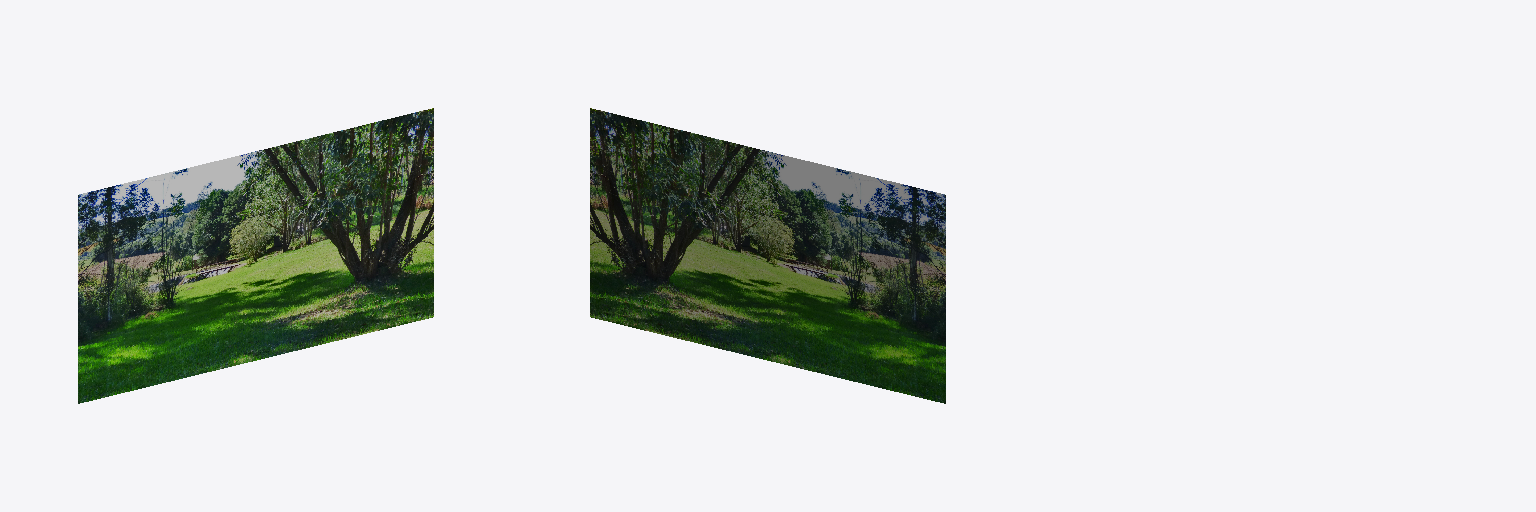
3 renders of one model, left to right at view 1: azimuth 30°, elevation 25°; view 2: azimuth 150°, elevation 25°; view 3: azimuth 270°, elevation 25°, orthographic.
Parts seen in each view (by area): view 1: Paisagem_03; view 2: Paisagem_03; view 3: none.
Boxes of the visible parts, box(x1,y1,x2,y2) form: Paisagem_03: box(78, 108, 433, 403); Paisagem_03: box(590, 108, 945, 403).
Size of the model in its own units: 1.78 by 1 by 0.
1 materials, 1 textured.